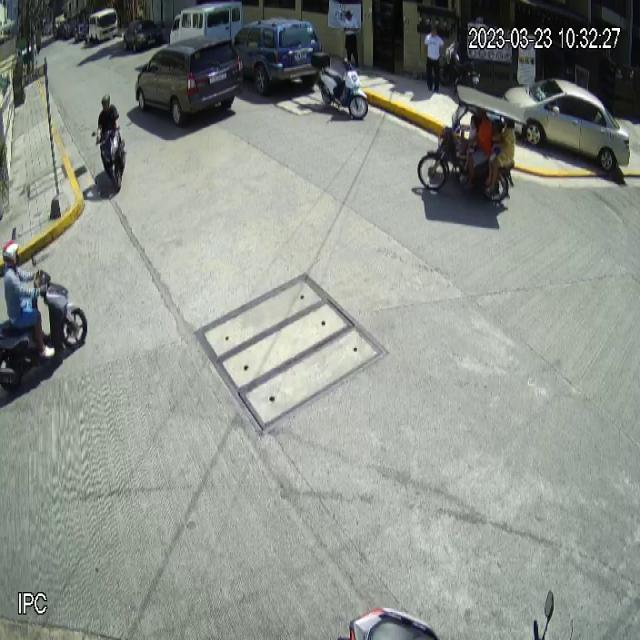Car: (503, 76, 632, 175), (133, 36, 244, 128)
Motorcycle: (0, 257, 88, 392), (310, 50, 370, 121), (91, 113, 129, 194)
Tricycle: (416, 80, 528, 208)
